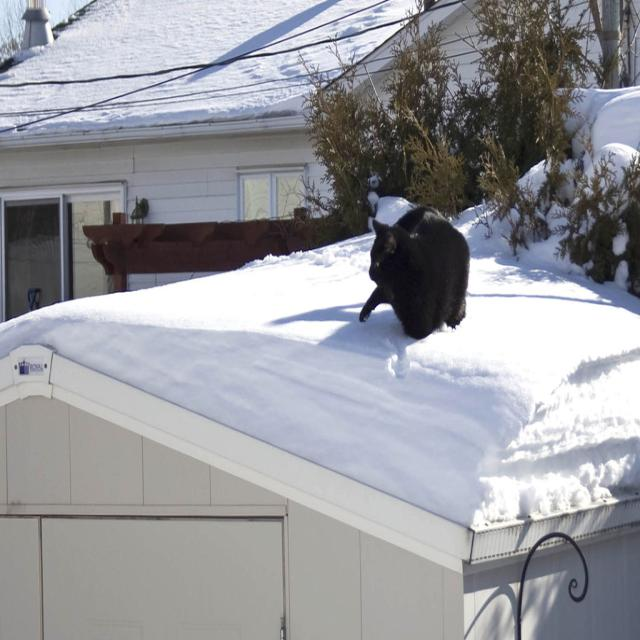Cat: (353, 196, 471, 340)
